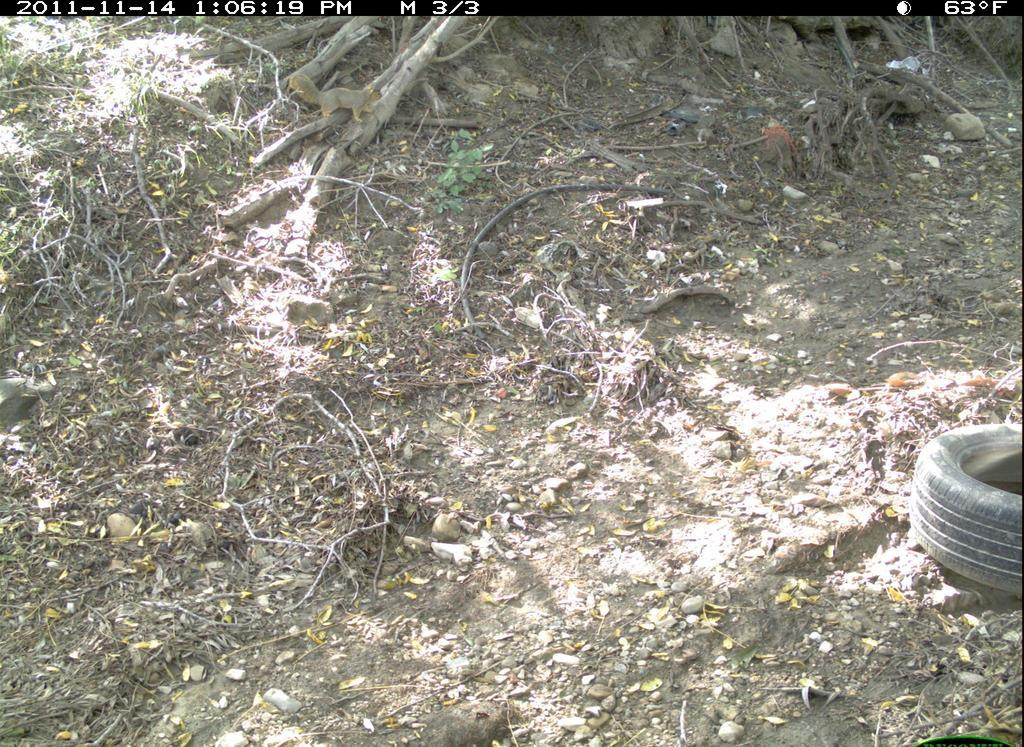squirrel: (287, 70, 386, 126)
